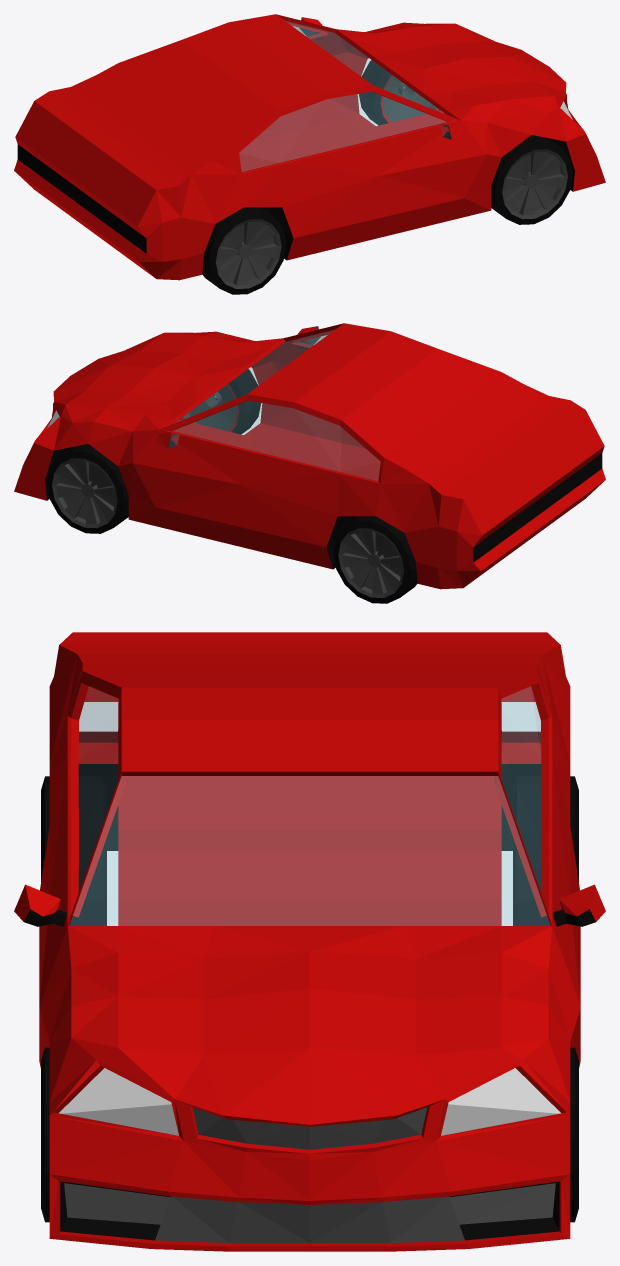
File: RedCar.obj
3 renders of one model, top to bottom at view 1: azimuth 30°, elevation 25°; view 2: azimuth 150°, elevation 25°; view 3: azimuth 270°, elevation 25°, orthographic. The views are drawn at different scales.
Visible parts, largest first — view 1: RedCar_Material.097, RedCar_Material.101, RedCar_Material.099, RedCar_Material.100; view 2: RedCar_Material.097, RedCar_Material.101, RedCar_Material.099, RedCar_Material.100; view 3: RedCar_Material.097, RedCar_Material.101, RedCar_Material.102, RedCar_Material.099, RedCar_Material.098.
Boxes of the visible parts, x1,y1,x2,y2 form: RedCar_Material.097: [14, 14, 605, 280]; RedCar_Material.101: [239, 18, 451, 171]; RedCar_Material.099: [17, 28, 574, 294]; RedCar_Material.100: [215, 76, 567, 288]; RedCar_Material.097: [14, 323, 605, 589]; RedCar_Material.101: [168, 327, 380, 480]; RedCar_Material.099: [45, 337, 602, 603]; RedCar_Material.100: [52, 385, 404, 597]; RedCar_Material.097: [14, 632, 605, 1251]; RedCar_Material.101: [69, 686, 550, 925]; RedCar_Material.102: [64, 1107, 555, 1242]; RedCar_Material.099: [24, 764, 595, 1240]; RedCar_Material.098: [59, 1068, 560, 1135].
Size of the model in its own units: 4.14 by 1.35 by 2.3.
